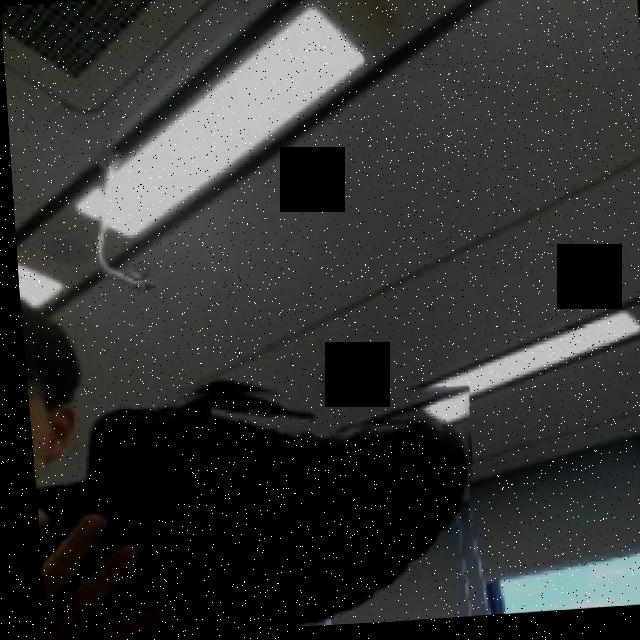shoe: (21, 371, 479, 640)
